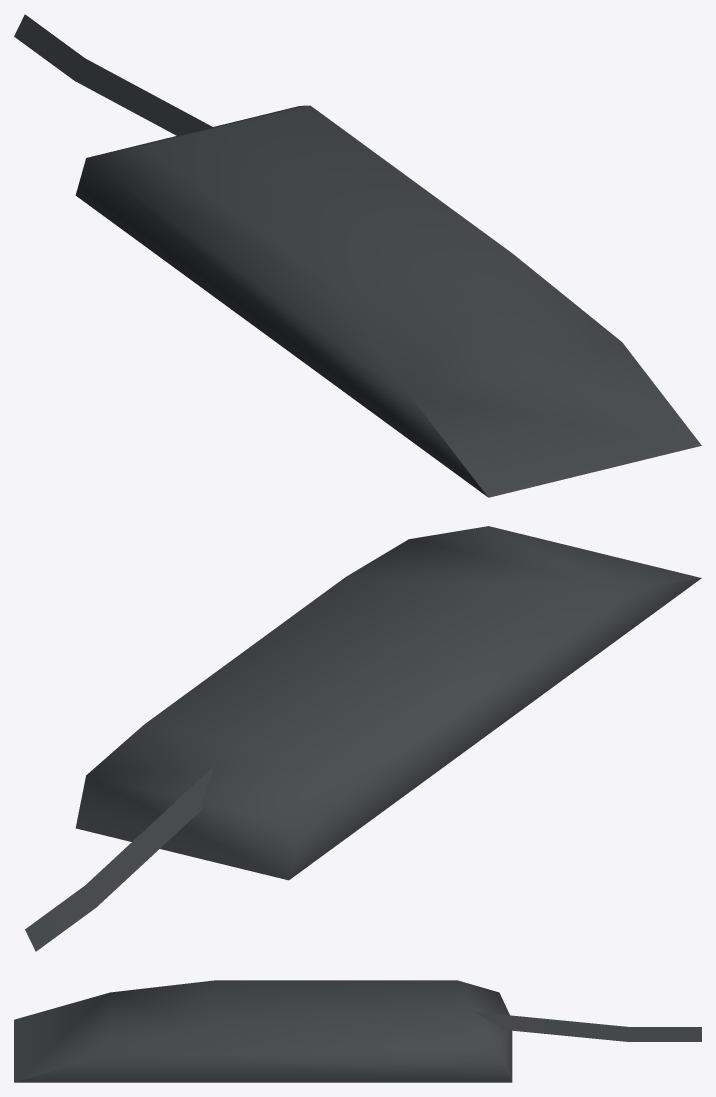
The model's file is S300_BOJ_00.glb.
3 views of the same model, one above another, from view 1: azimuth 30°, elevation 25°; view 2: azimuth 150°, elevation 25°; view 3: azimuth 270°, elevation 25° (orthographic). The views are drawn at different scales.
Parts seen in each view (by area): view 1: yane01; view 2: yane01; view 3: yane01.
Part boxes in pixels (bbox=[...]): yane01: bbox=[14, 14, 701, 497]; yane01: bbox=[25, 526, 701, 951]; yane01: bbox=[14, 980, 701, 1082].
Size of the model in its own units: 1.69 by 0.5813 by 7.84.
1 material, 1 textured.
